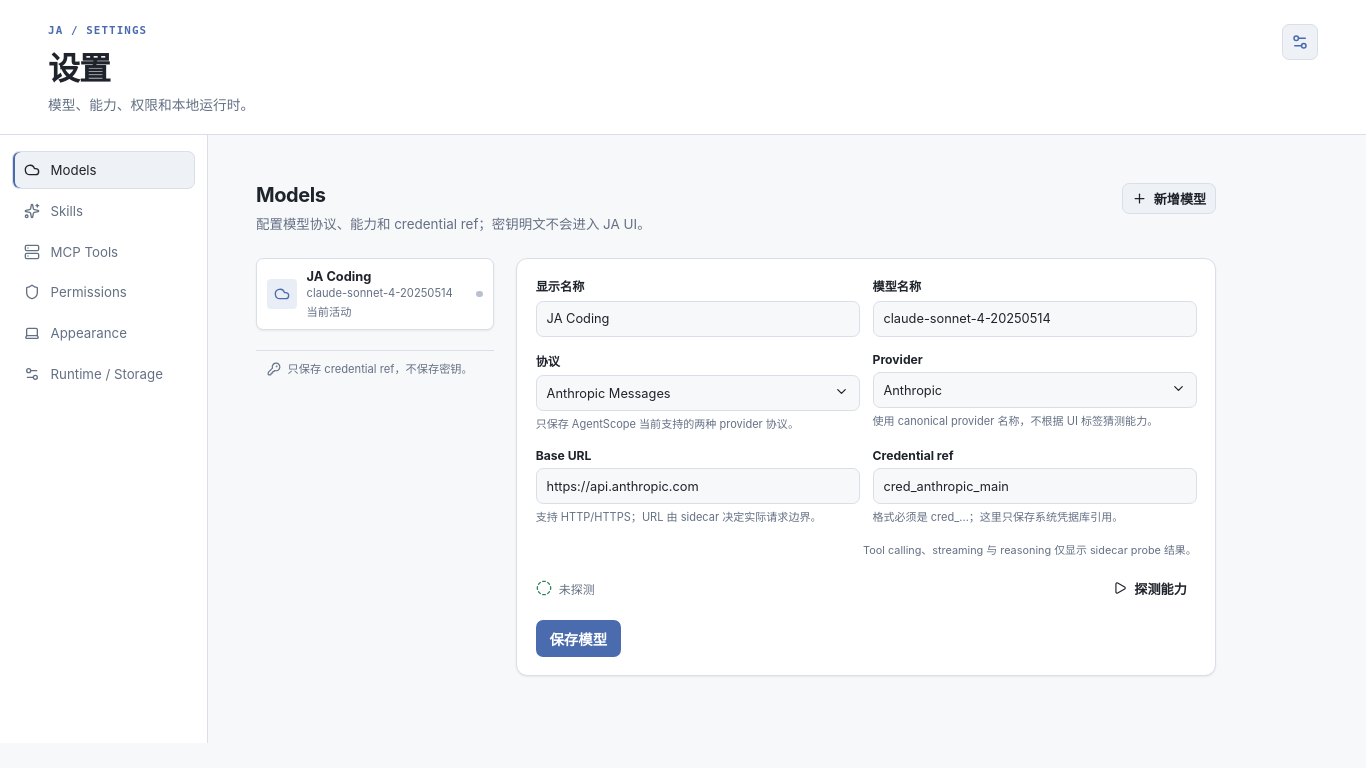
Test: JA Settings feature › does not claim skill success without a native port and handles reload failures
This screenshot has width=1366, height=768.
Click the tab "Skills".
click(104, 211)  # box x1=12 y1=192 x2=195 y2=230
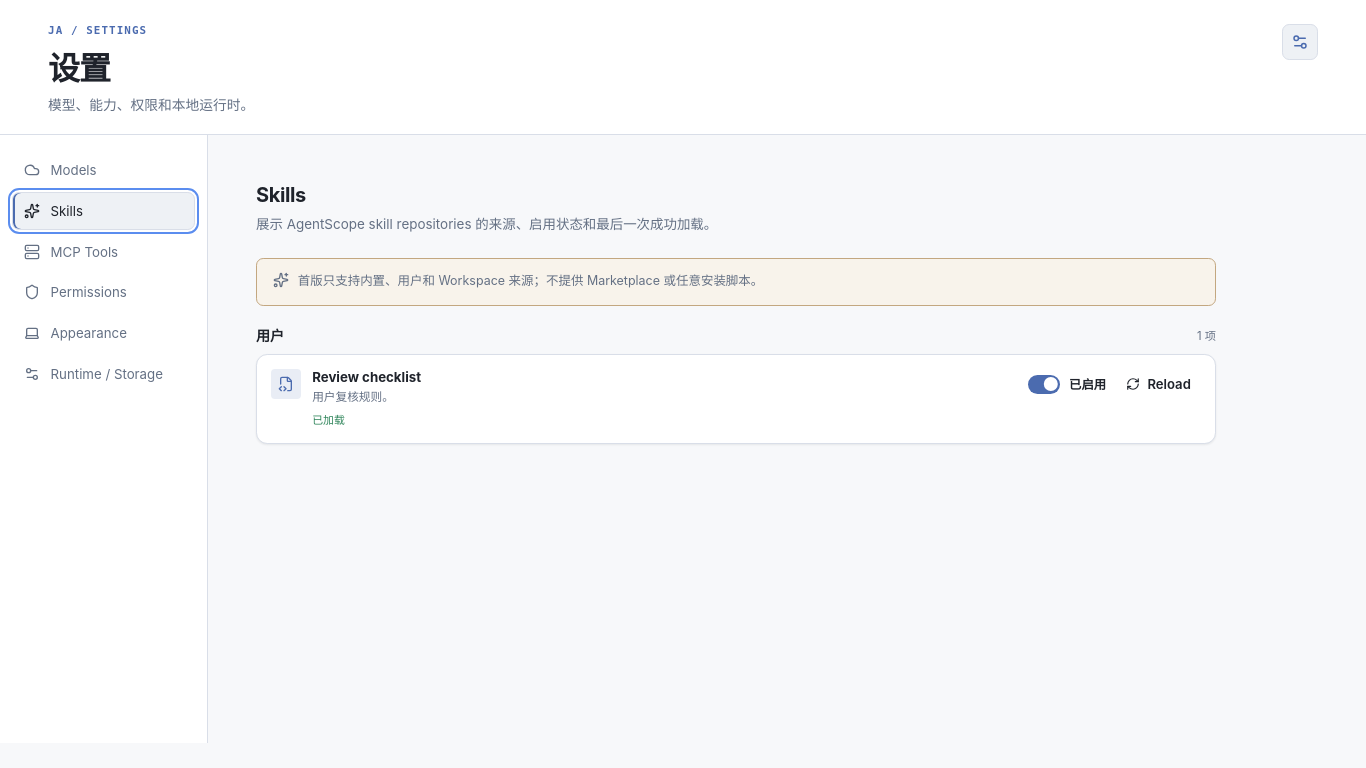
Expected: the element "Review checklist" is shown, x1=256 y1=354 x2=1216 y2=444
Click the button "Reload".
click(1158, 384)  # box x1=1116 y1=369 x2=1201 y2=399
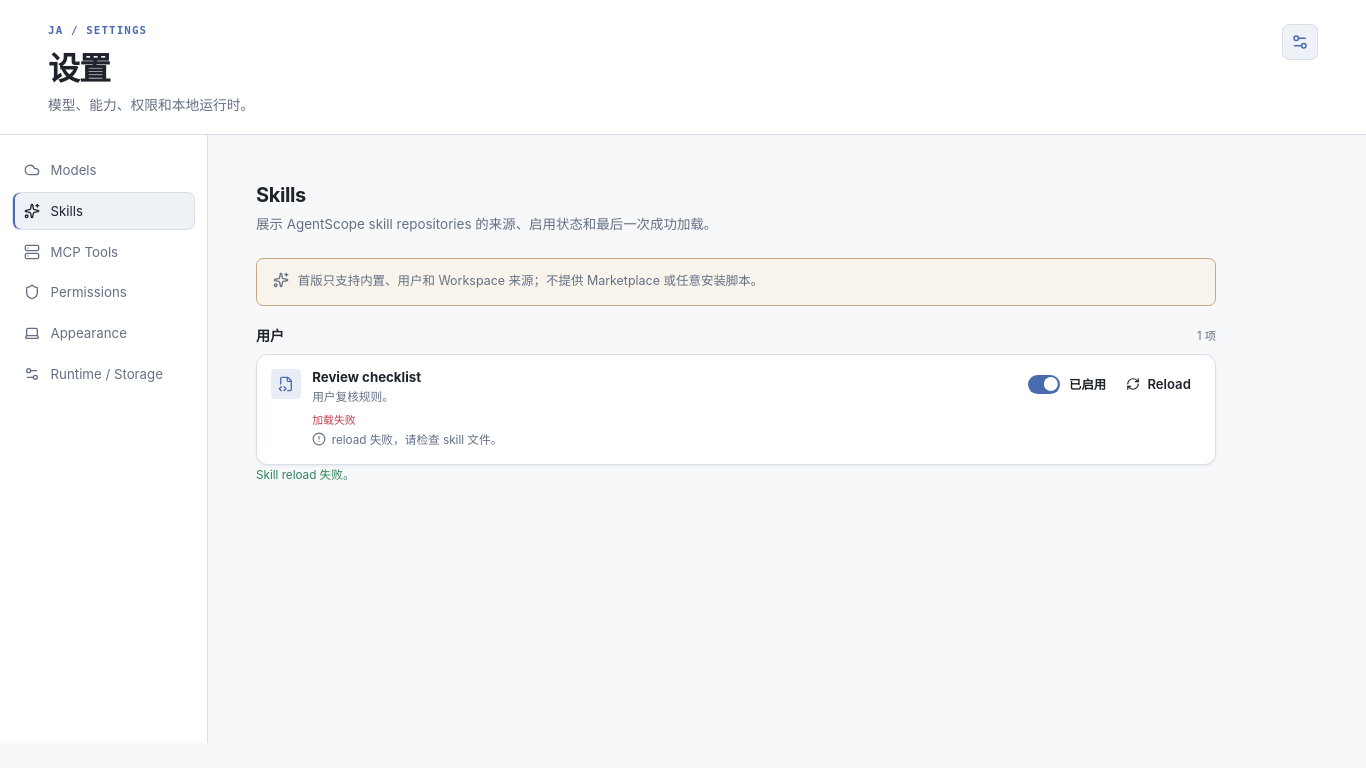
Expected: the text "加载失败" is shown, x1=312 y1=412 x2=356 y2=428
